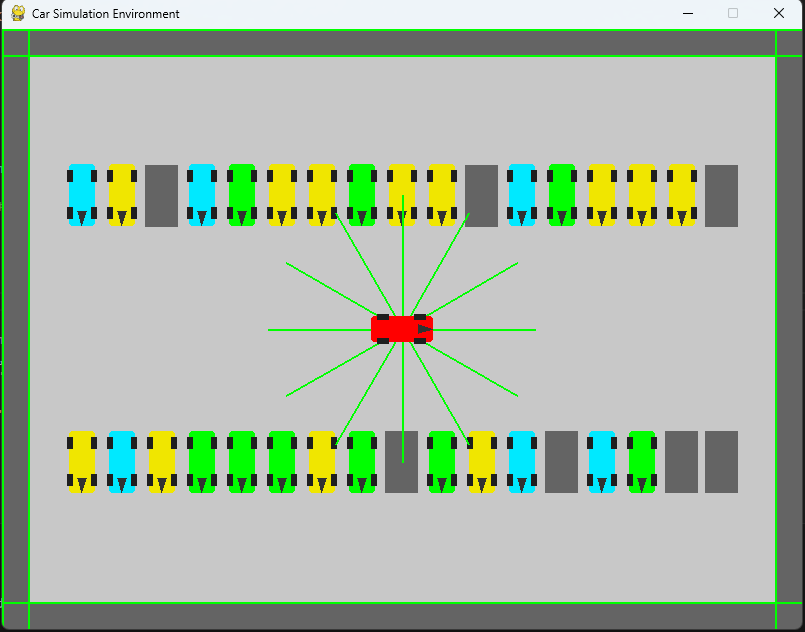ControlledCar: (364, 308, 442, 352)
ParkedCar: (624, 160, 661, 233), (103, 160, 141, 230), (665, 160, 703, 230), (463, 424, 499, 497), (264, 161, 301, 232), (427, 155, 460, 234), (384, 160, 420, 231), (584, 160, 620, 231), (504, 158, 540, 228), (343, 424, 377, 498), (423, 427, 459, 496), (105, 423, 138, 498), (182, 427, 217, 497), (225, 426, 260, 495), (225, 161, 261, 227), (505, 427, 539, 496), (545, 160, 580, 227), (305, 427, 339, 495), (343, 159, 376, 229), (146, 427, 180, 494), (264, 427, 298, 494), (185, 160, 219, 226), (63, 428, 97, 494), (586, 430, 620, 496), (63, 165, 98, 229), (626, 428, 659, 494), (306, 157, 337, 227)
ParkingSpot: (660, 426, 703, 498), (381, 423, 420, 501), (542, 421, 582, 497), (703, 421, 741, 500), (703, 160, 741, 233), (141, 160, 180, 231), (464, 158, 502, 230)
